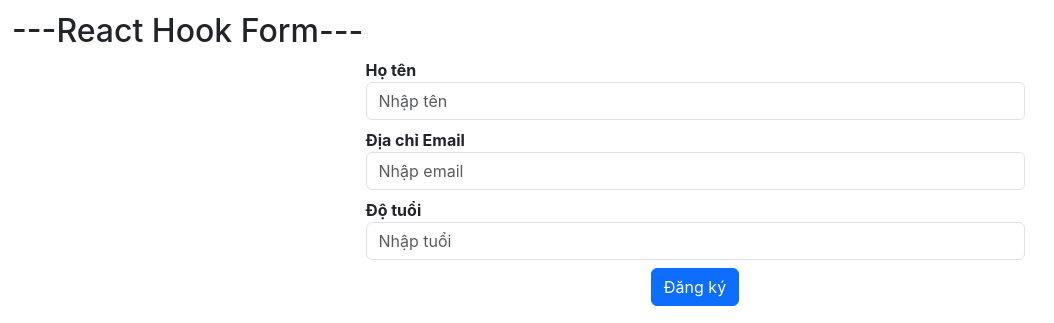
ReactHookForm › submits the form correctly when valid data is provided
The width and height of the screenshot is (1054, 323).
Note: Mô tả sự kiện người dùng change giá trị trong các trường input
Step 1. Type "ToRuong" into the field with placeholder "Nhập tên" → coordinates (695, 101), box 366,82 -> 1024,120
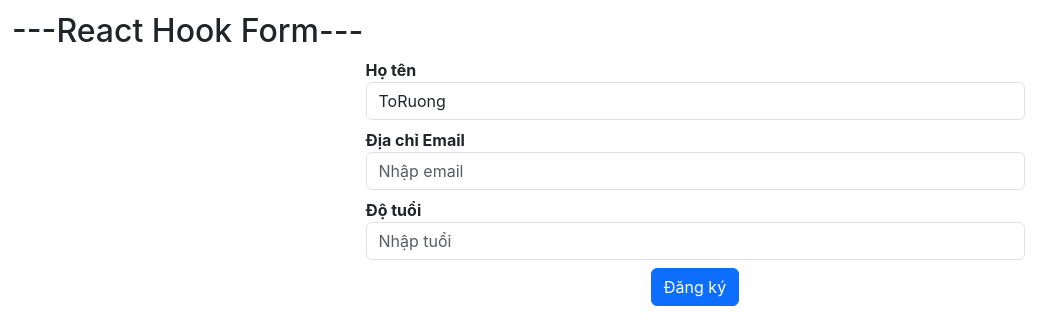
Step 2. Type "truong@gmail.com" into the field with placeholder "Nhập email" → coordinates (695, 171), box 366,152 -> 1024,190
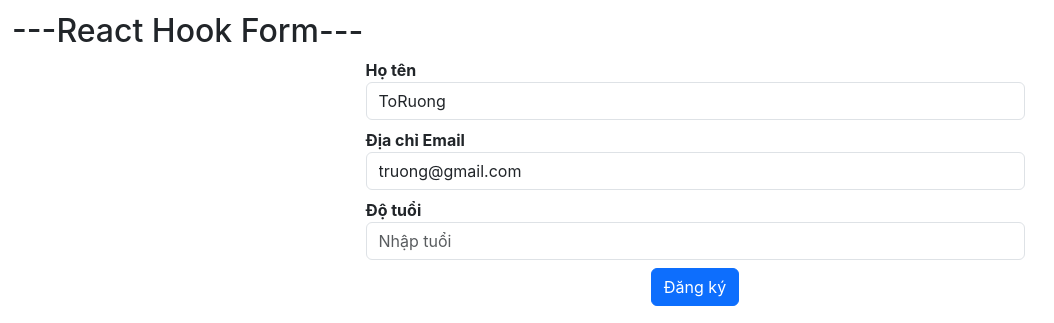
Step 3. Type "22" into the number field with placeholder "Nhập tuổi" → coordinates (695, 241), box 366,222 -> 1024,260
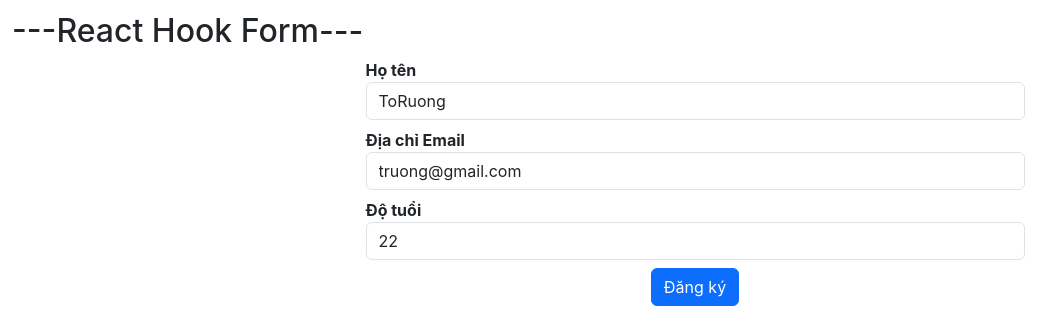
Note: Mô tả sự kiện người dùng click vào button Đăng ký
Step 4. Click the button "Đăng ký" → coordinates (695, 287), box 651,268 -> 739,306
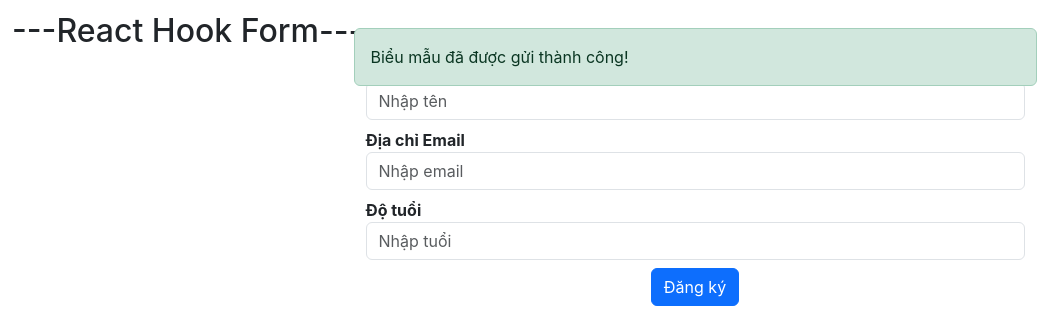
Check: the text "Biểu mẫu đã được gửi thành công!" is shown, box 354,28 -> 1036,86
